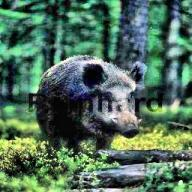boar: (27, 54, 147, 156)
